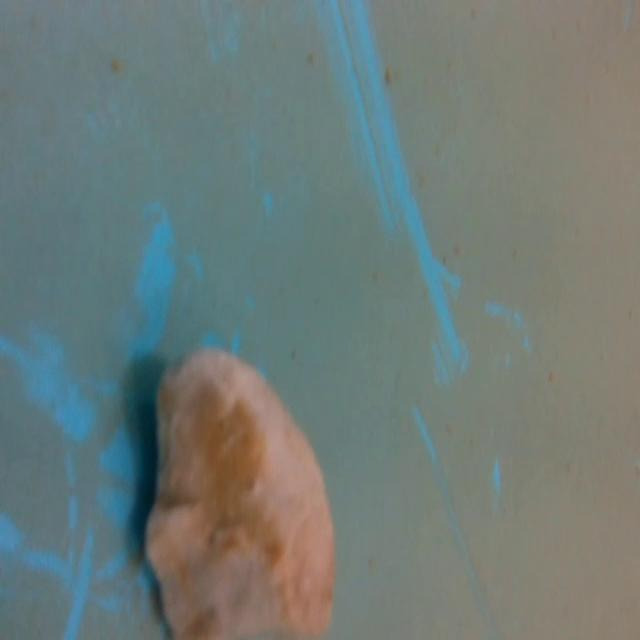rock: (139, 340, 344, 640)
